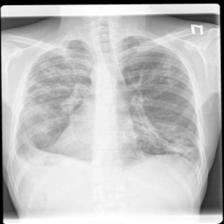tuberculosis: (1, 33, 208, 183)
